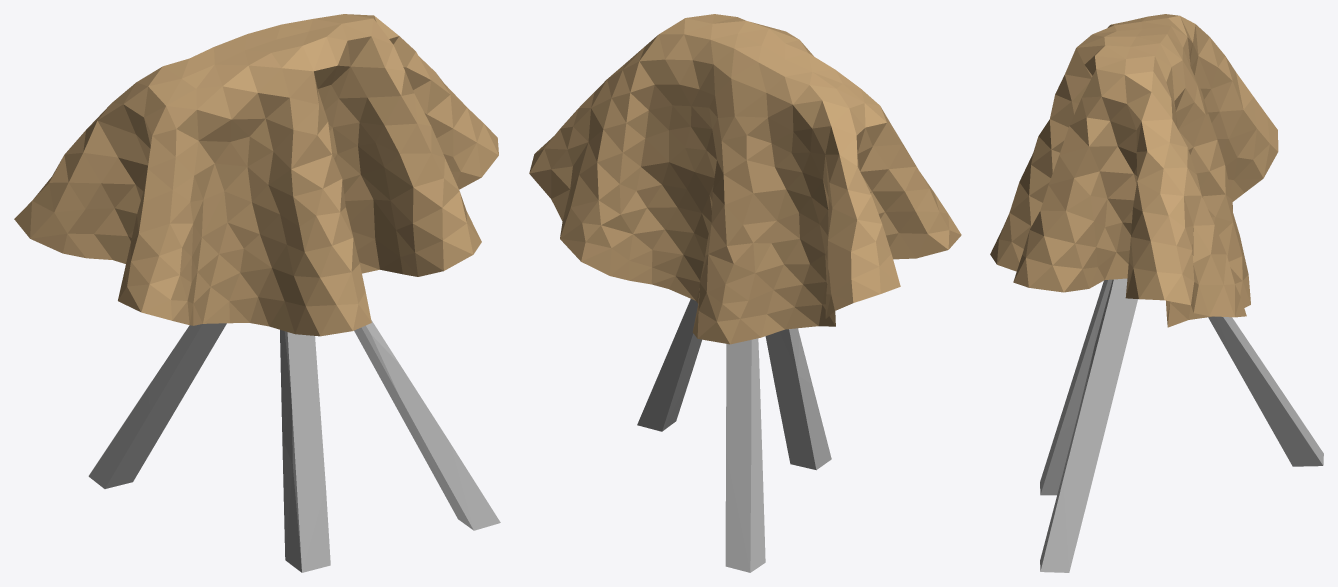
Rendered from level_0.glb.
3 renders of one model, left to right at view 1: azimuth 30°, elevation 25°; view 2: azimuth 150°, elevation 25°; view 3: azimuth 270°, elevation 25°, orthographic. The views are drawn at different scales.
Visible parts, largest first — view 1: world, object.obj; view 2: world, object.obj; view 3: world, object.obj.
Boxes of the visible parts, box(x1,y1,x2,y2) form: world: box(14, 14, 498, 336); object.obj: box(88, 320, 500, 572); world: box(529, 14, 961, 344); object.obj: box(637, 299, 831, 572); world: box(990, 14, 1278, 327); object.obj: box(1040, 278, 1323, 572).
Size of the model in its own units: 0.3774 by 0.4101 by 0.2674.
